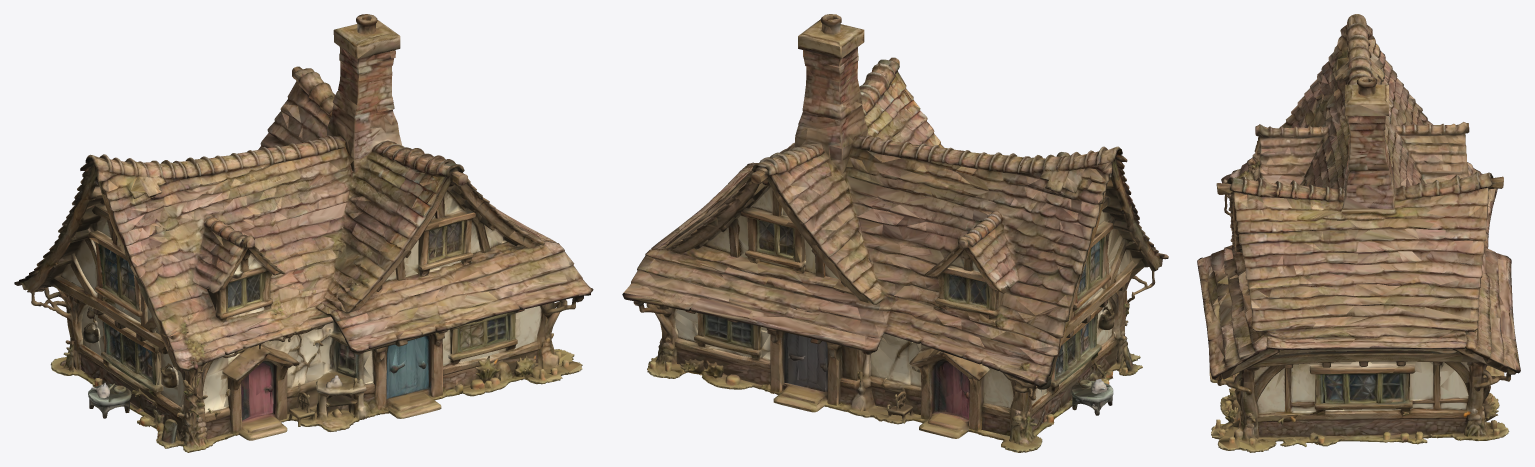
The model's file is duchess_house.glb.
3 views of the same model, side by side, from view 1: azimuth 30°, elevation 25°; view 2: azimuth 150°, elevation 25°; view 3: azimuth 270°, elevation 25° (orthographic). The views are drawn at different scales.
Parts seen in each view (by area): view 1: DuchessHouse; view 2: DuchessHouse; view 3: DuchessHouse.
Boxes of the visible parts, x1,y1,x2,y2 form: DuchessHouse: (14, 14, 593, 452); DuchessHouse: (622, 14, 1168, 452); DuchessHouse: (1197, 14, 1520, 452).
Bounding box in the file's own units: 0.9636 × 0.7061 × 0.6737.
Materials: 1 (1 with a texture image).
